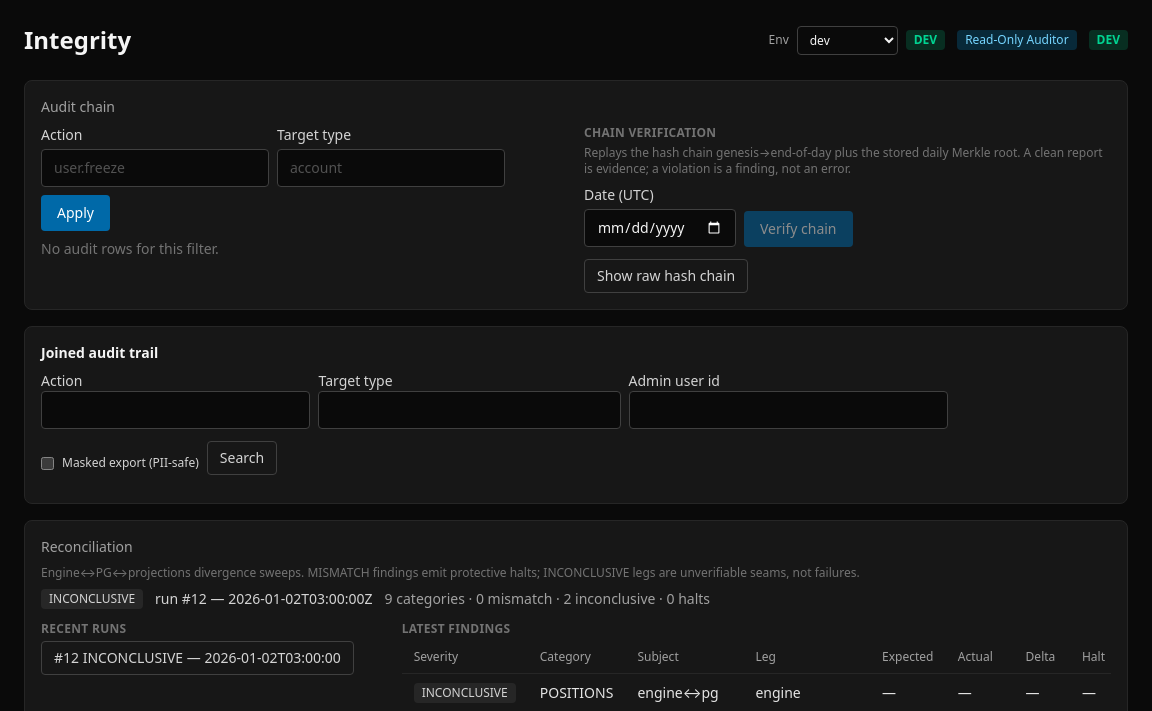
it: IntegrityPage › verifies the audit chain for a date and renders the report badge
Type "2026-01-02" into the date field labelled "Date (UTC)" at x=660, y=228, box 584,209 -> 736,247
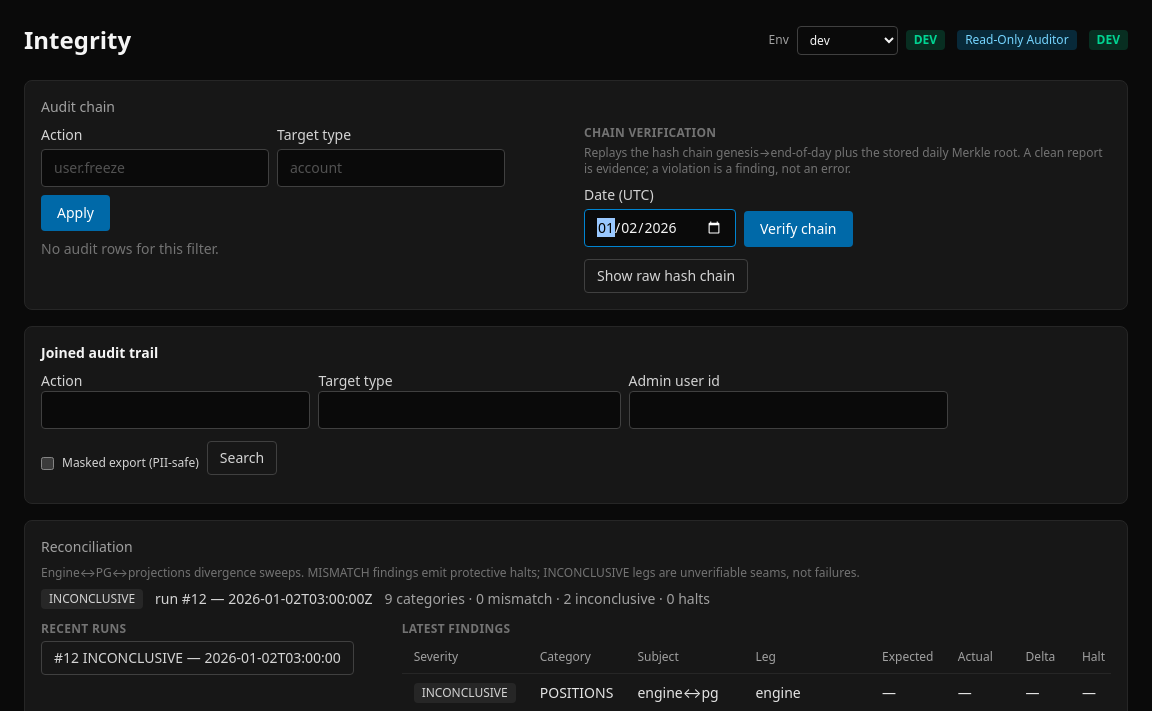
Click the button "Verify chain" at x=798, y=229, box 744,211 -> 852,247
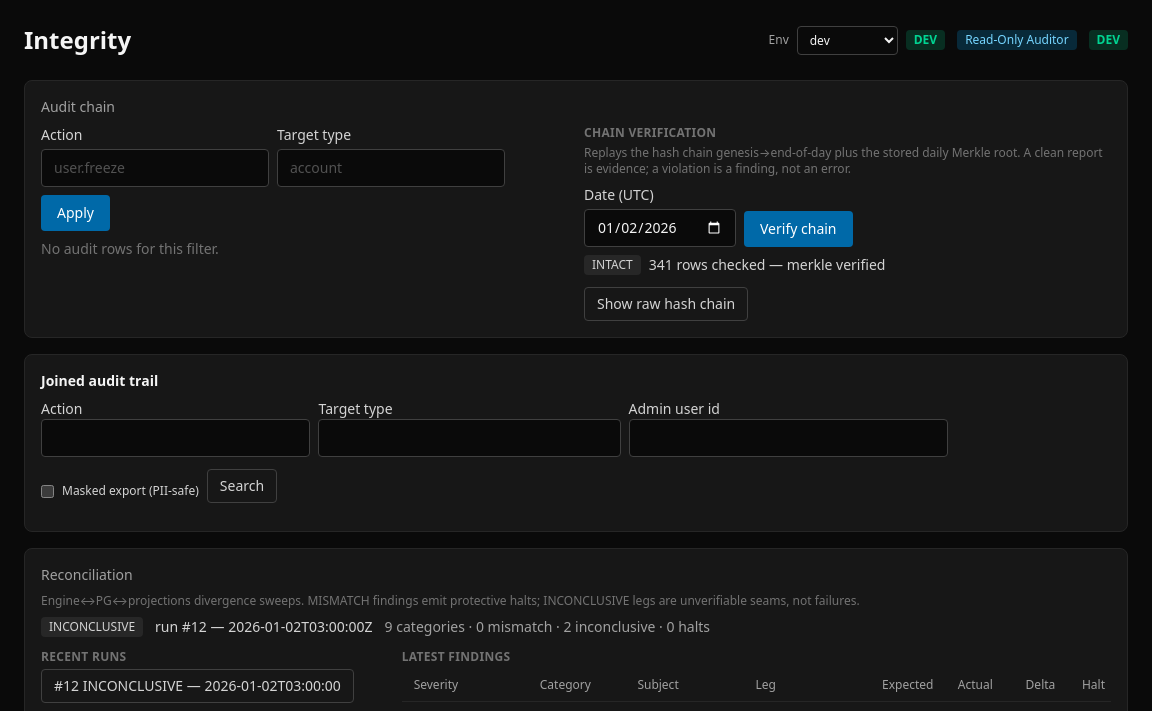
Expected: the element with test id "verify-report" shows "341 rows checked", 584,255 -> 885,275
